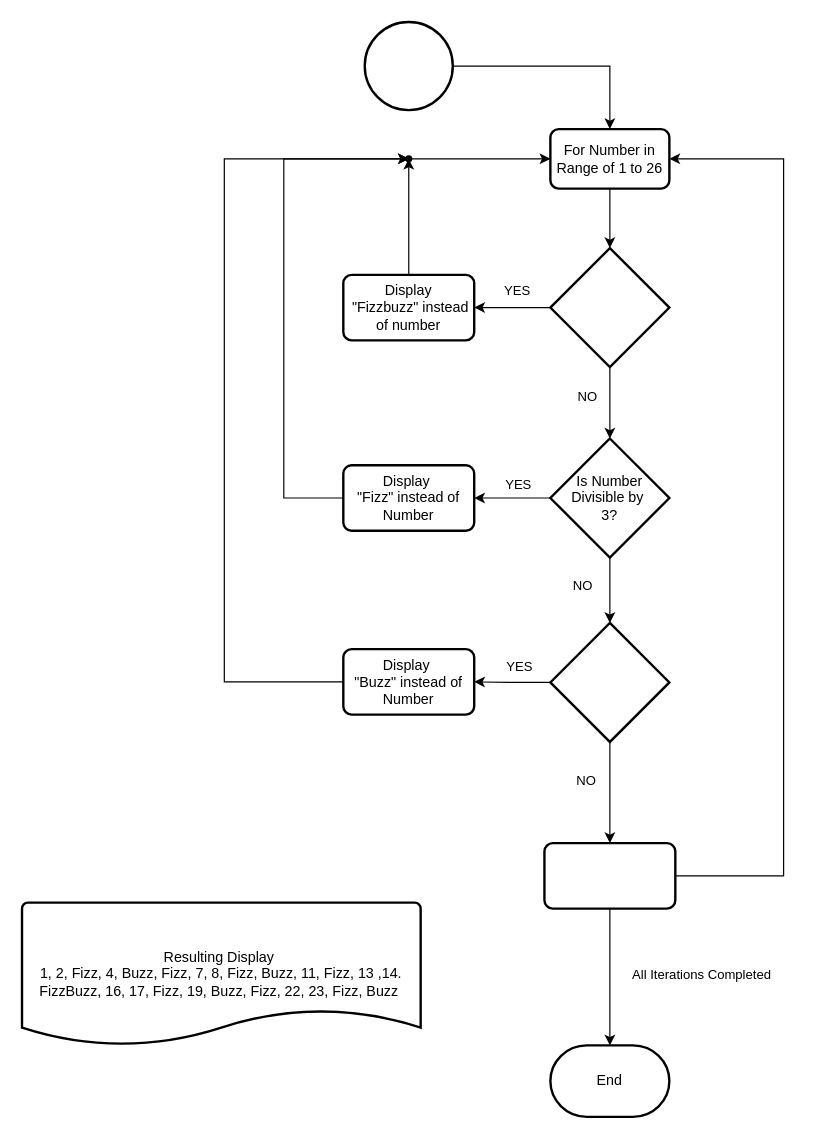
Image size: 814x1138. Some labels were removed from this diagram. The centre of each missing label's shape, as x and y in pixels:
"Display Number" belongs at point 609,875.
"Is Number Divisible by 3 and 5?" belongs at point 609,307.
"Is Number Divisible by 5?" belongs at point 609,682.
"Start" belongs at point 408,65.
